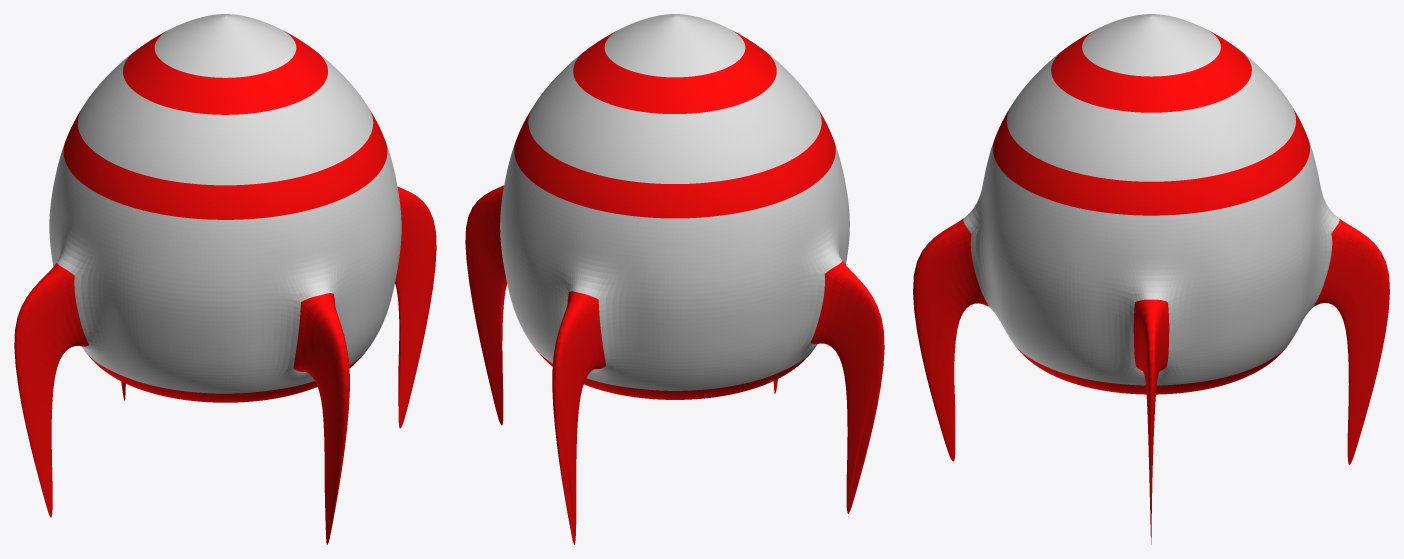
Rendered from CuteRocket (1).fbx.
The picture shows the model from 3 angles, left to right: view 1: azimuth 30°, elevation 25°; view 2: azimuth 150°, elevation 25°; view 3: azimuth 270°, elevation 25°; orthographic projection. The views are drawn at different scales.
Parts seen in each view (by area): view 1: Cylinder; view 2: Cylinder; view 3: Cylinder.
Part boxes in pixels (<box>): Cylinder: <box>14,14,436,544</box>; Cylinder: <box>465,14,884,544</box>; Cylinder: <box>913,14,1389,544</box>.
Size of the model in its own units: 272 by 282 by 272.
